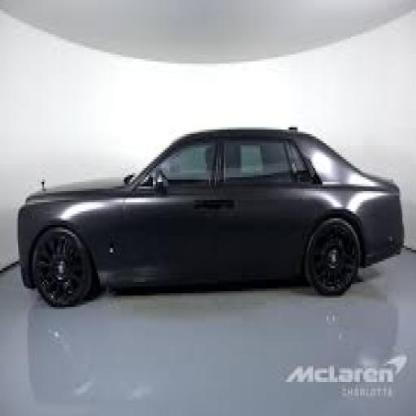car: (16, 120, 412, 308)
